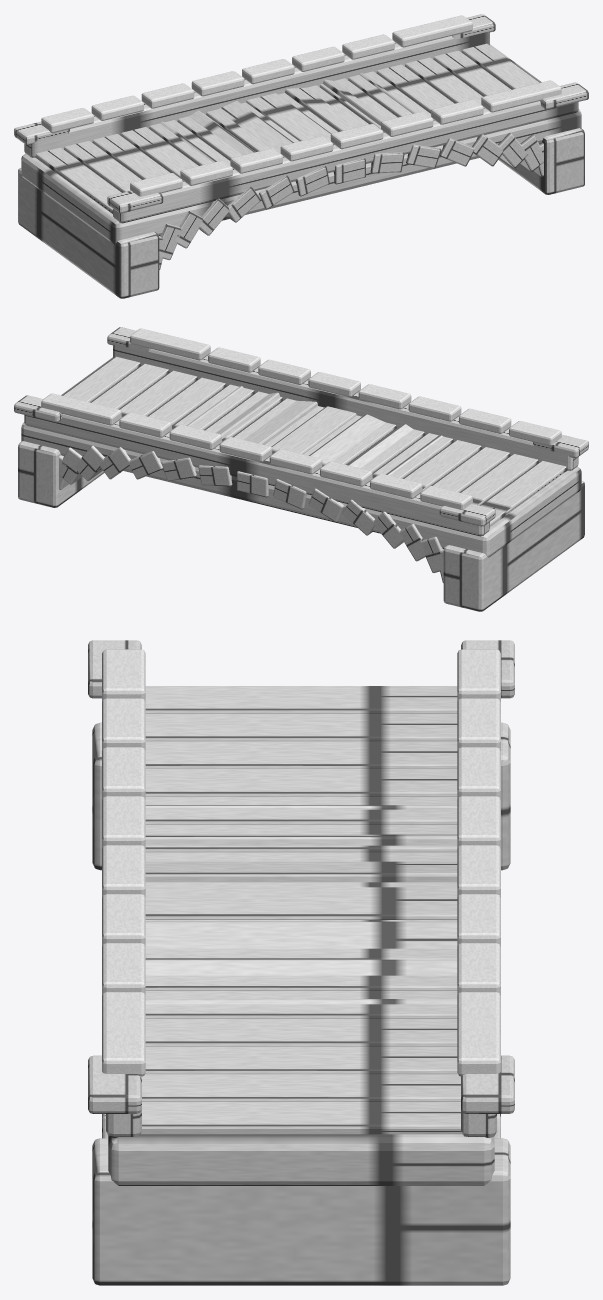
Rendered from stone_bridge.glb.
3 views of the same model, one above another, from view 1: azimuth 30°, elevation 25°; view 2: azimuth 150°, elevation 25°; view 3: azimuth 270°, elevation 25° (orthographic). The views are drawn at different scales.
Visible parts, largest first — view 1: StoneBridge_Geometry; view 2: StoneBridge_Geometry; view 3: StoneBridge_Geometry.
Part boxes in pixels (bbox=[...]): StoneBridge_Geometry: bbox=[14, 14, 588, 298]; StoneBridge_Geometry: bbox=[14, 327, 588, 611]; StoneBridge_Geometry: bbox=[88, 640, 514, 1285].
Size of the model in its own units: 8.44 by 1.78 by 3.32.
5 materials, 5 textured.
